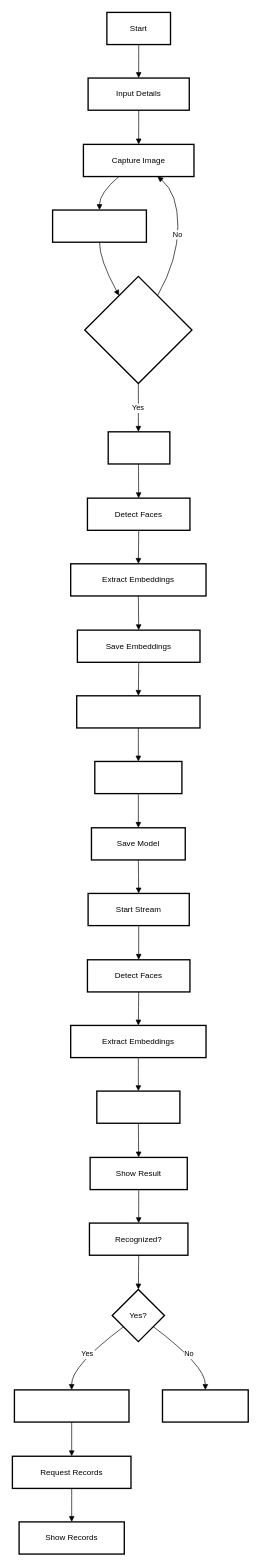
Image size: 260x1566. Some labels were removed from this diagram. Here are the shapes that lost their labels. From the top down, the centre of each, then its label:
the point at 99,226: Save Image
the point at 138,329: Enough Images?
the point at 138,447: Stop
the point at 138,711: Load Embeddings
the point at 138,777: Train SVM
the point at 138,1107: Compare
the point at 71,1405: Log Attendance
the point at 205,1405: No Action
